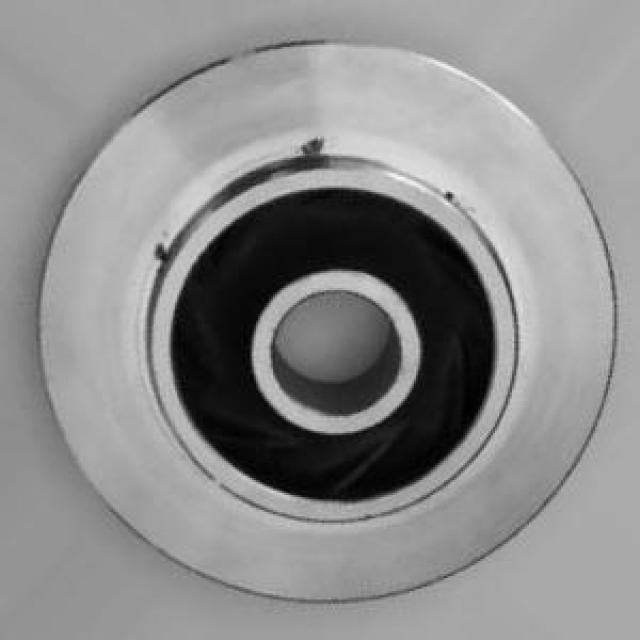Defect: (297, 133, 334, 156)
